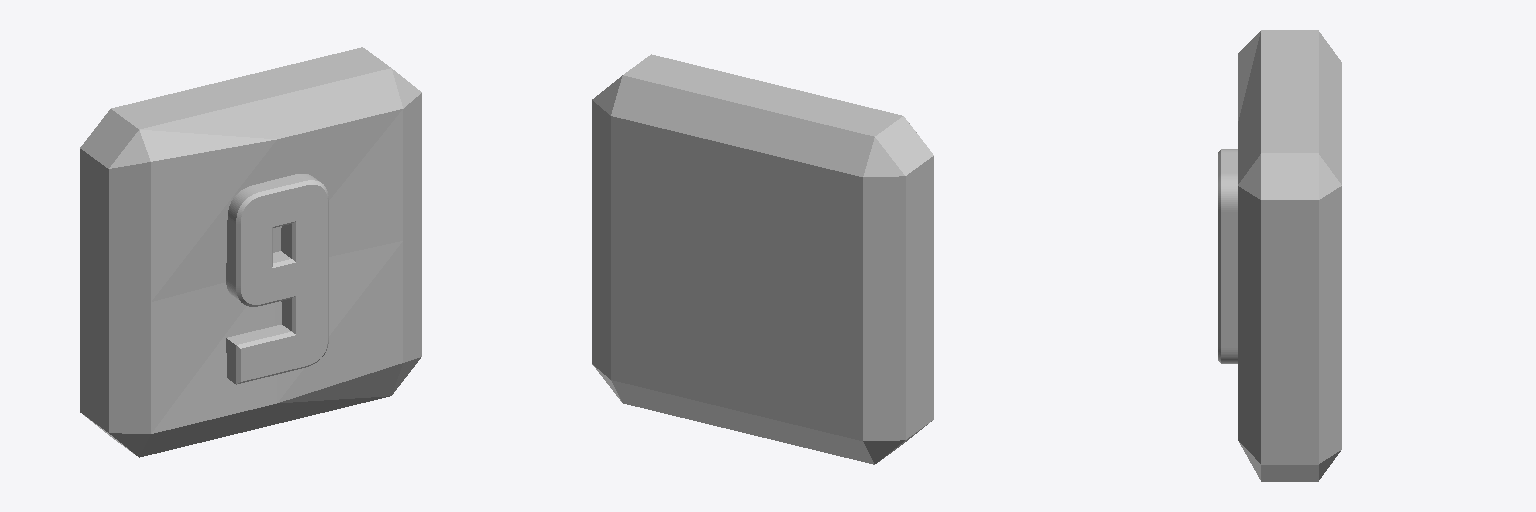
The model's file is Lvl-9.obj.
3 renders of one model, left to right at view 1: azimuth 30°, elevation 25°; view 2: azimuth 150°, elevation 25°; view 3: azimuth 270°, elevation 25°, orthographic.
Visible parts, largest first — view 1: lvl-9_Cube.009; view 2: lvl-9_Cube.009; view 3: lvl-9_Cube.009.
Boxes of the visible parts, x1,y1,x2,y2 form: lvl-9_Cube.009: [80, 47, 421, 457]; lvl-9_Cube.009: [592, 54, 933, 464]; lvl-9_Cube.009: [1218, 30, 1341, 481].
Size of the model in its own units: 1.28 by 1.28 by 0.4393.